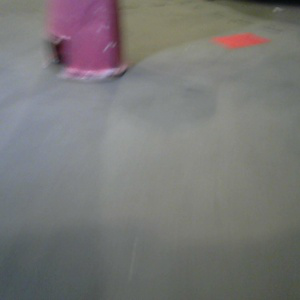right: (32, 1, 134, 85)
